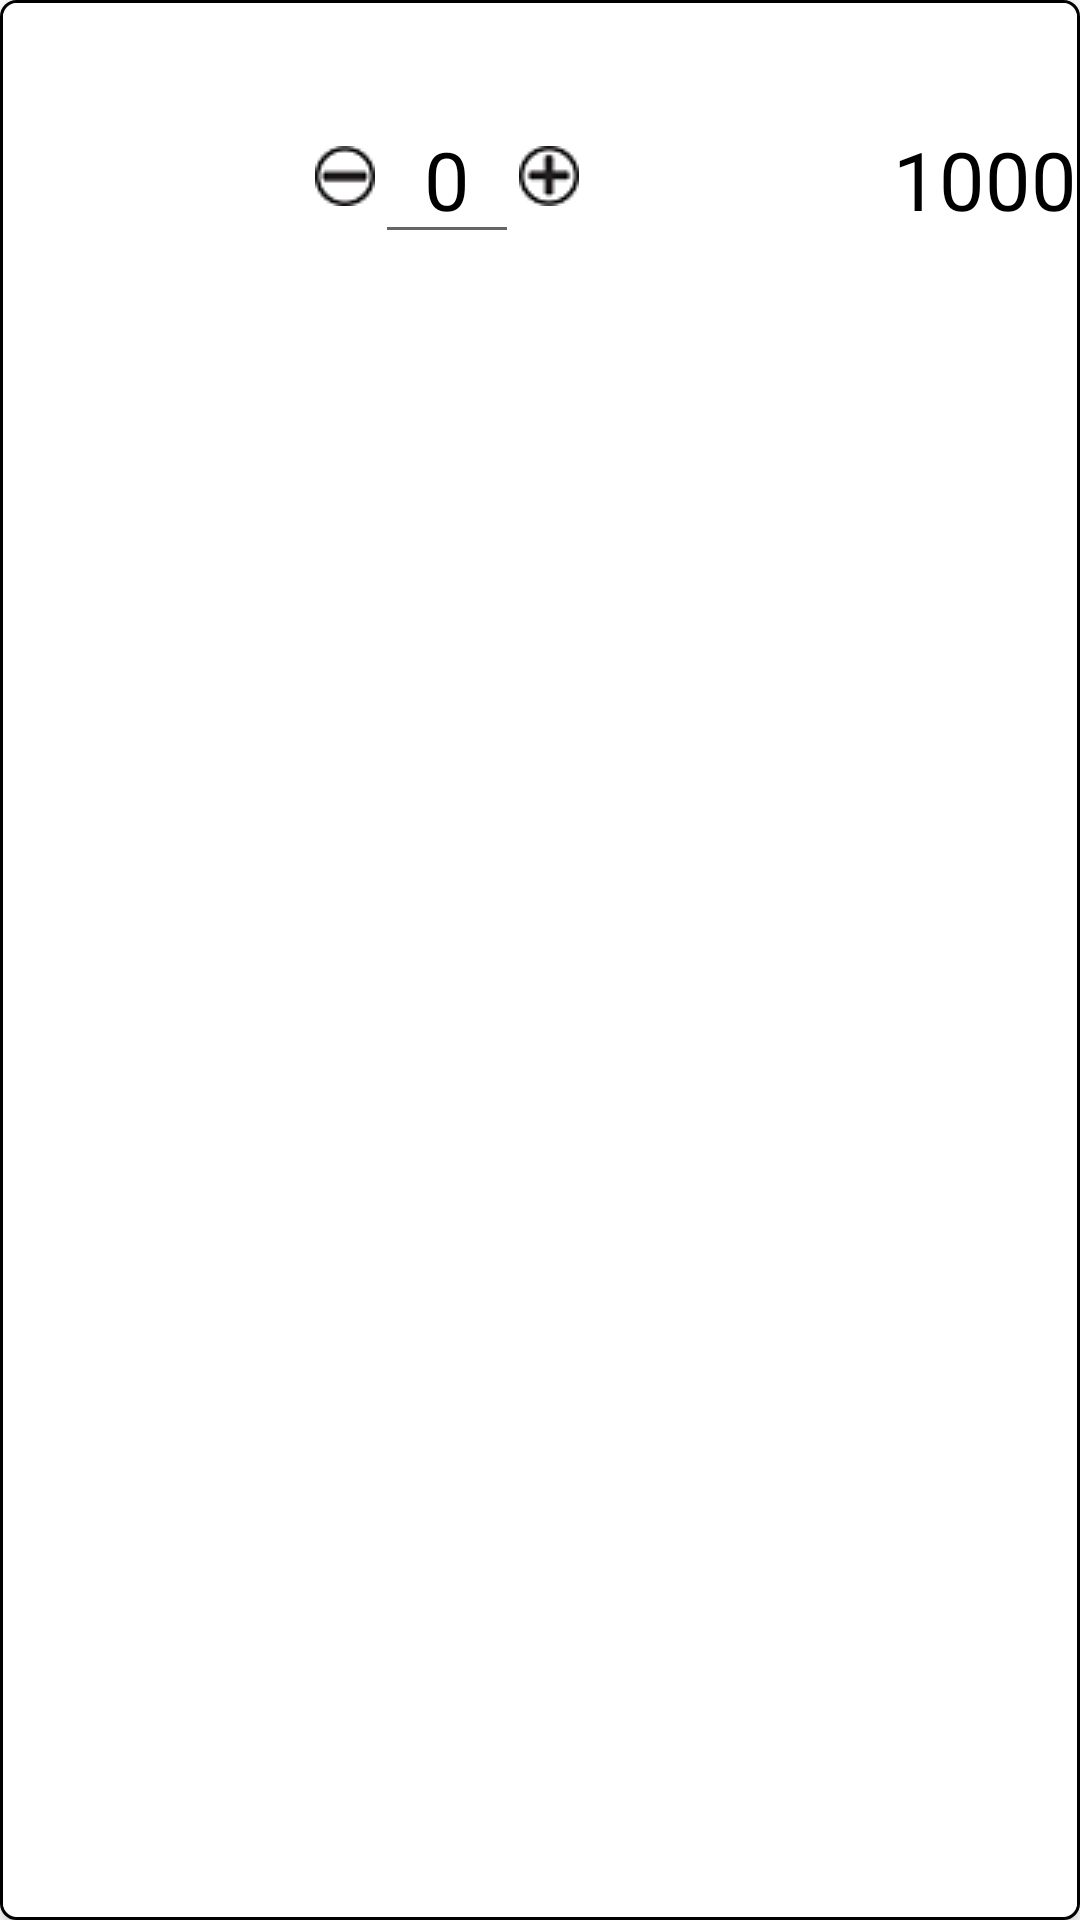

Screen size 1080px x 1920px. Icon name, then its box in pixels as bbox(x1, y1, x2, y2):
minus: bbox(315, 146, 375, 206)
plus: bbox(519, 146, 579, 206)
